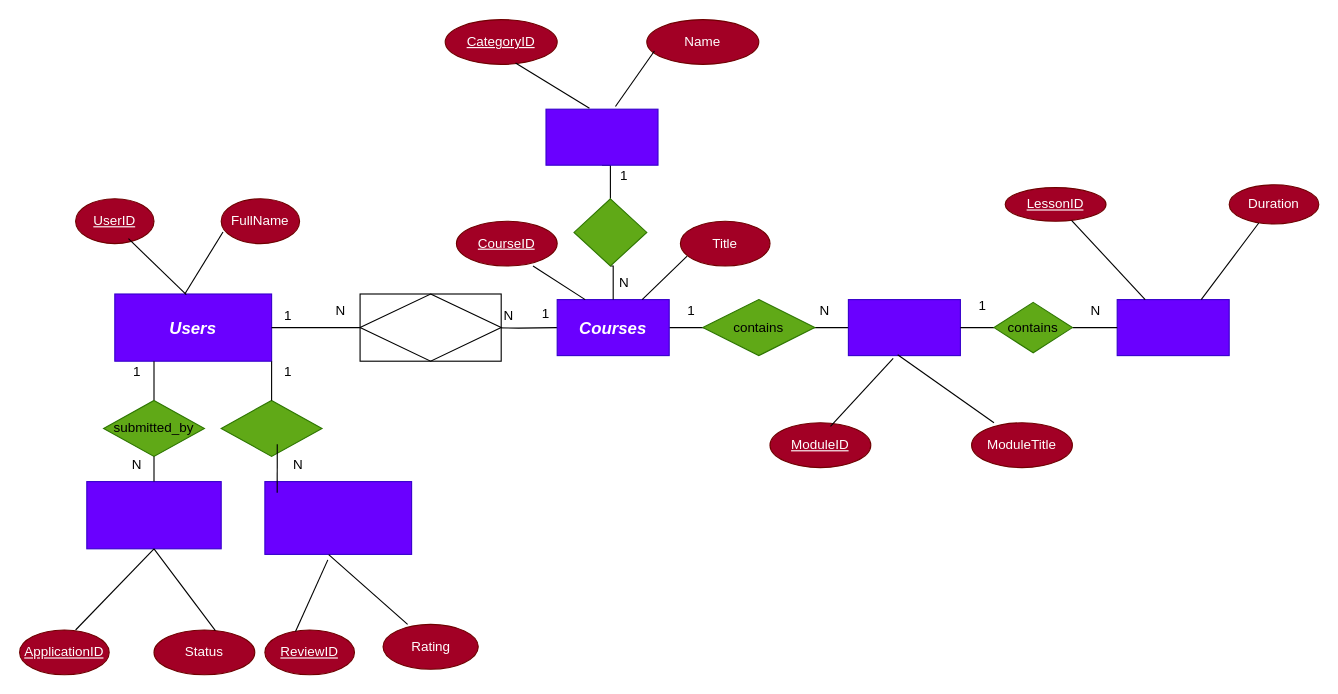
The diagram is 1338 pixels wide and 694 high, and some of its shapes have lost their labels. The centre of each missing label's shape, as x and y in pixels:
"belongs to" goes at point (610, 232).
"Categories" goes at point (601, 136).
"Enrollments" goes at point (430, 327).
"InstructorApplications" goes at point (153, 514).
"Lessons" goes at point (1172, 327).
"Modules" goes at point (903, 327).
"Review" goes at point (338, 517).
"reviews" goes at point (271, 427).
